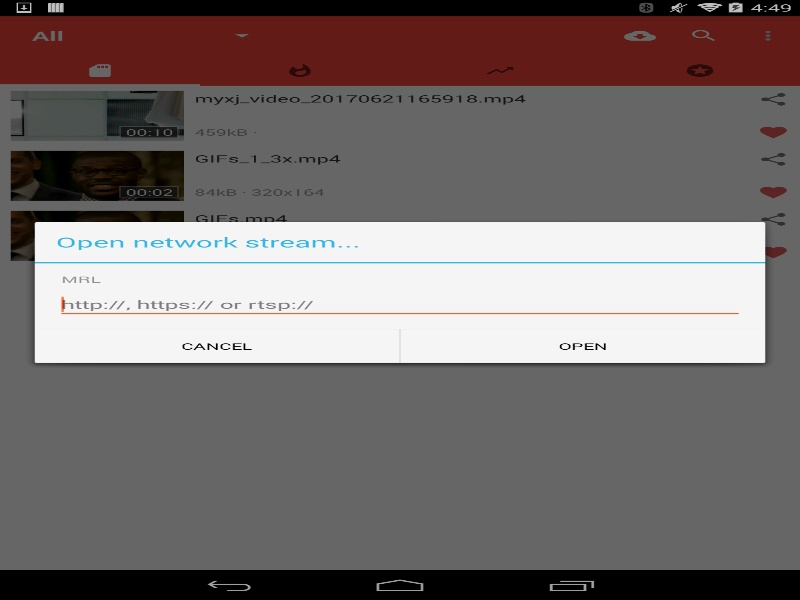Button: (34, 329, 399, 363), (400, 329, 765, 363)
Input: (56, 290, 744, 318)
